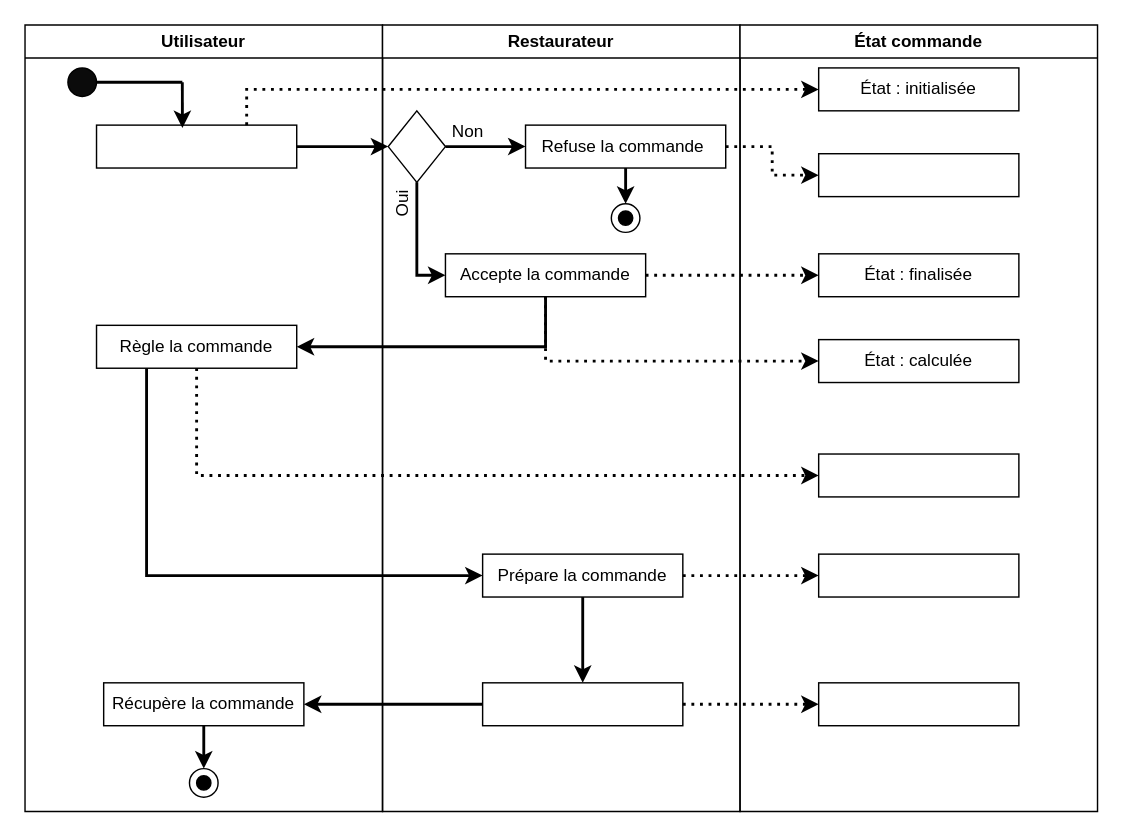
This 1123x837 diagram has some shape labels left out. Here are the shapes that lost their labels. From the top down, the centre of each, then its label:
pixel 196 146: Passe une commande
pixel 918 174: État : abandonnée
pixel 918 475: État : en attente
pixel 918 575: État : en préparation
pixel 582 703: Termine la commande
pixel 918 703: État : prête
